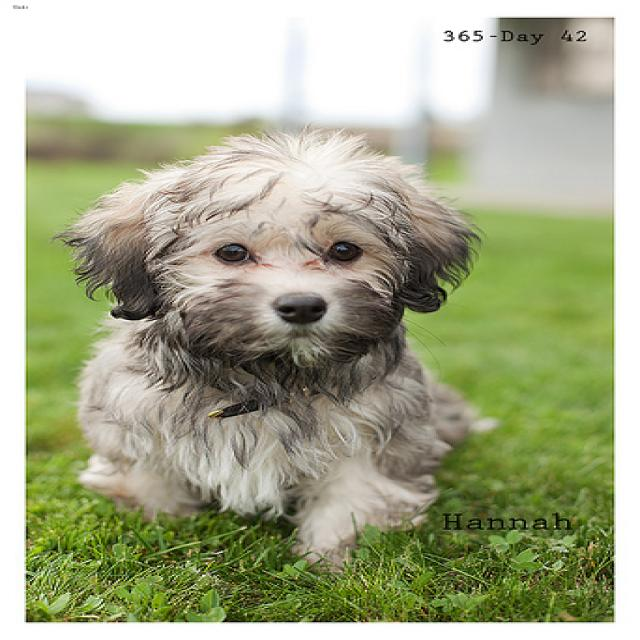dog-havanese: (47, 122, 505, 573)
